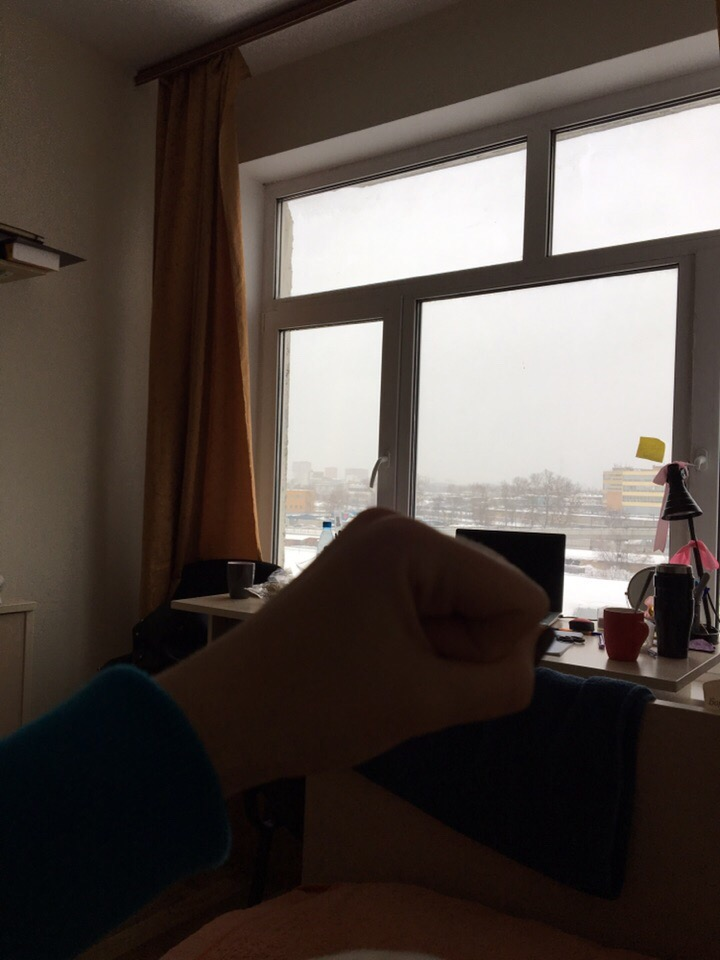hand: (261, 523, 539, 753)
